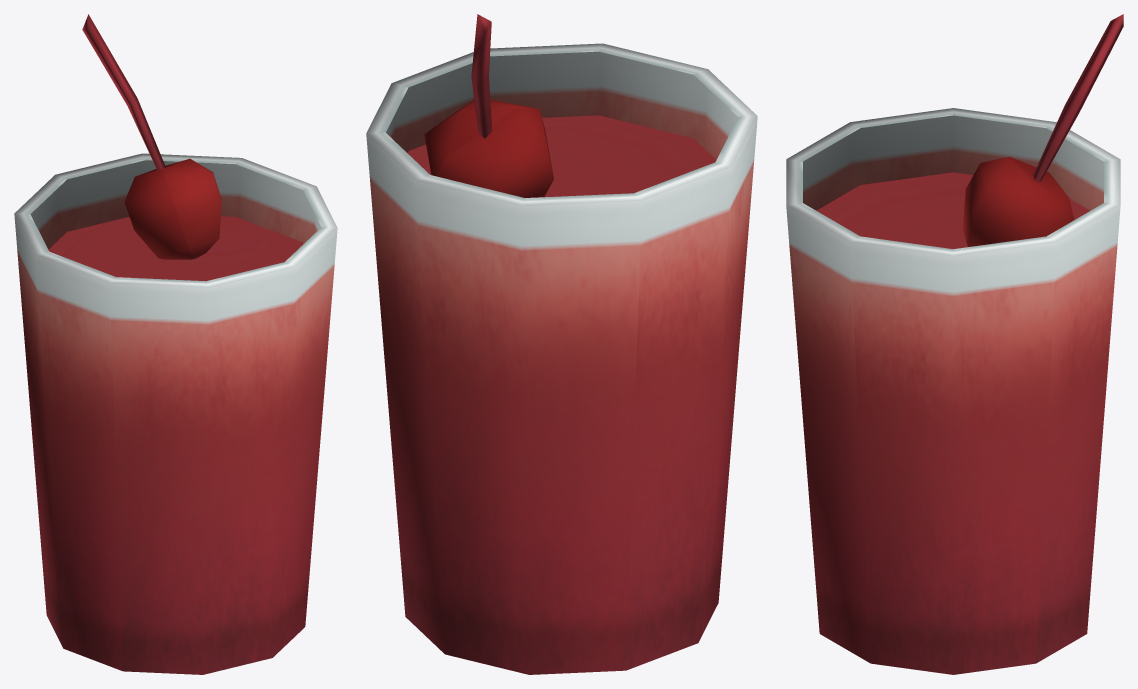
File: Tumbler_Smoothie.fbx
3 renders of one model, left to right at view 1: azimuth 30°, elevation 25°; view 2: azimuth 150°, elevation 25°; view 3: azimuth 270°, elevation 25°, orthographic. The views are drawn at different scales.
Parts seen in each view (by area): view 1: GlassTumbler.001; view 2: GlassTumbler.001; view 3: GlassTumbler.001.
Boxes of the visible parts, bbox=[...] form: GlassTumbler.001: bbox=[14, 14, 337, 674]; GlassTumbler.001: bbox=[366, 14, 757, 674]; GlassTumbler.001: bbox=[786, 14, 1123, 674].
Bounding box in the file's own units: 19.11 × 35.8 × 18.35.
